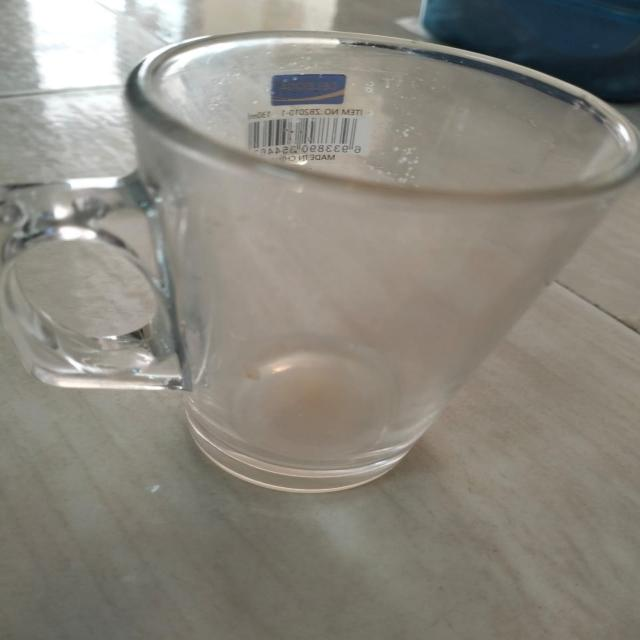glass-VX4N: (13, 27, 640, 496)
